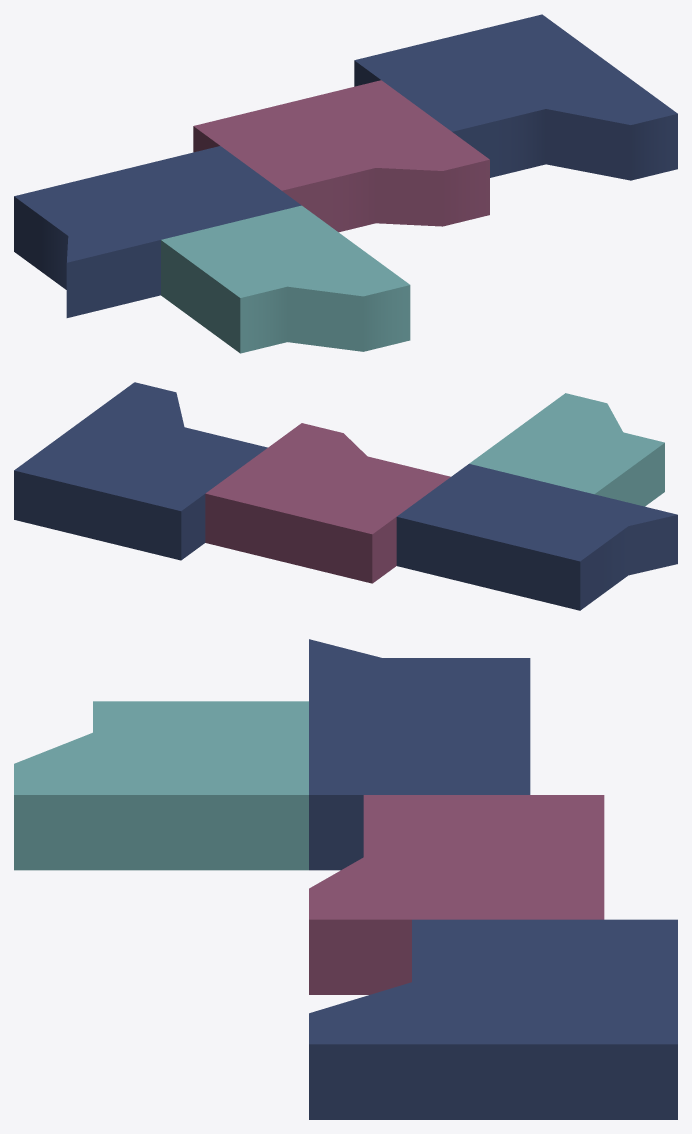
Rendered from House_Pieces2.fbx.
3 renders of one model, top to bottom at view 1: azimuth 30°, elevation 25°; view 2: azimuth 150°, elevation 25°; view 3: azimuth 270°, elevation 25°, orthographic. The views are drawn at different scales.
Parts seen in each view (by area): view 1: House21, House22, House24, House23; view 2: House23, House21, House22, House24; view 3: House21, House24, House22, House23.
Boxes of the visible parts, box(x1,y1,x2,y2) form: House21: box(354, 14, 677, 180); House22: box(193, 80, 489, 232); House24: box(161, 205, 410, 353); House23: box(14, 146, 301, 317); House23: box(396, 464, 677, 610); House21: box(14, 382, 267, 560); House22: box(205, 423, 450, 583); House24: box(469, 393, 664, 506); House21: box(309, 919, 677, 1119); House24: box(14, 701, 308, 870); House22: box(309, 795, 604, 994); House23: box(309, 639, 530, 870).
Size of the model in its own units: 146 by 12.68 by 101.
